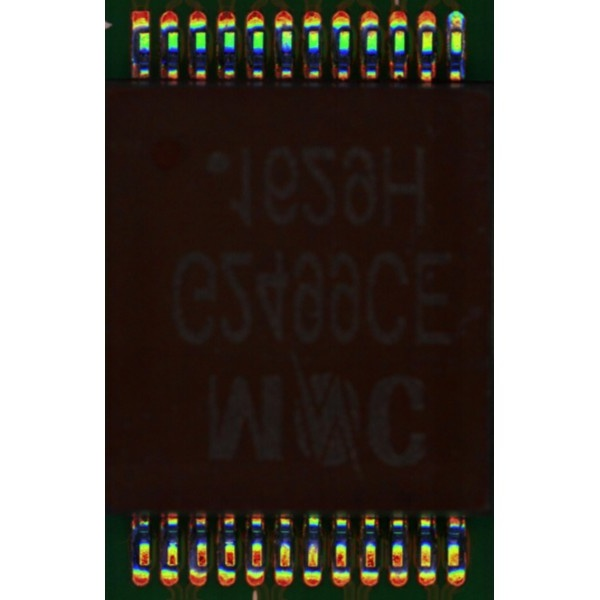Bad_podu: (453, 23, 461, 37)
Bad_qiaojiao: (462, 33, 466, 79), (446, 31, 451, 63)
